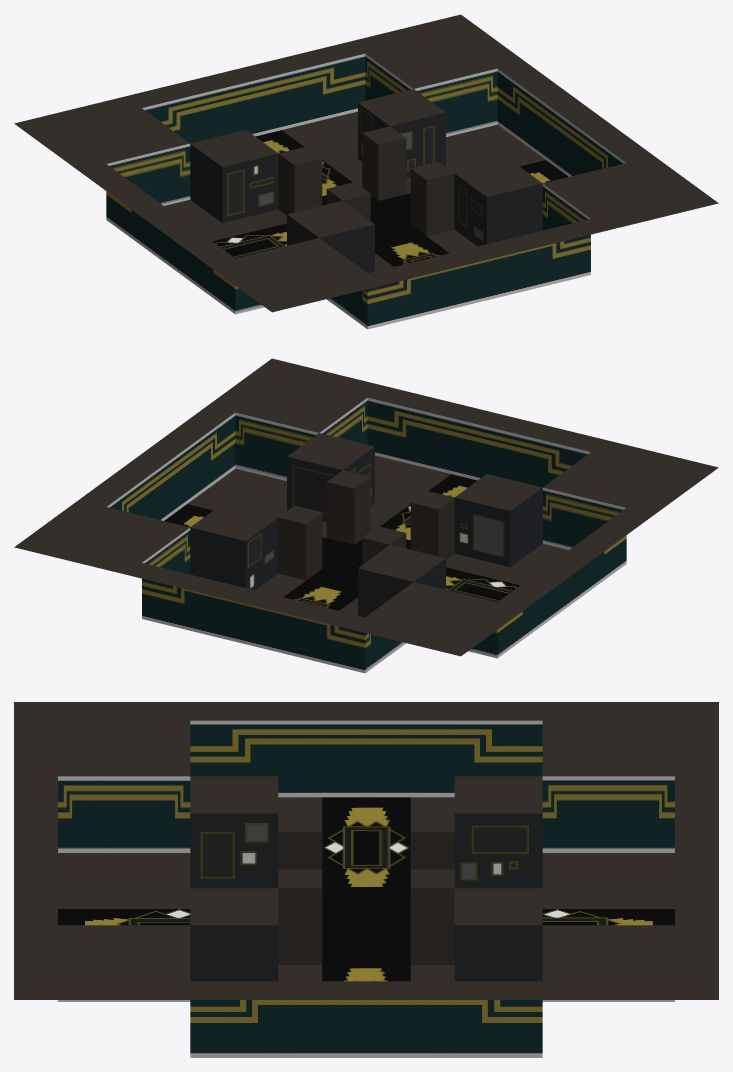
The model's file is environment.fbx.
The picture shows the model from 3 angles, top to bottom: view 1: azimuth 30°, elevation 25°; view 2: azimuth 150°, elevation 25°; view 3: azimuth 270°, elevation 25°; orthographic projection. The views are drawn at different scales.
Visible parts, largest first — view 1: background; view 2: background; view 3: background.
Part boxes in pixels (x1,y1,x2,y2): background: [14, 14, 718, 329]; background: [14, 358, 718, 673]; background: [14, 702, 718, 1057].
Size of the model in its own units: 25 by 3 by 25.
Materials: 1 (1 with a texture image).
